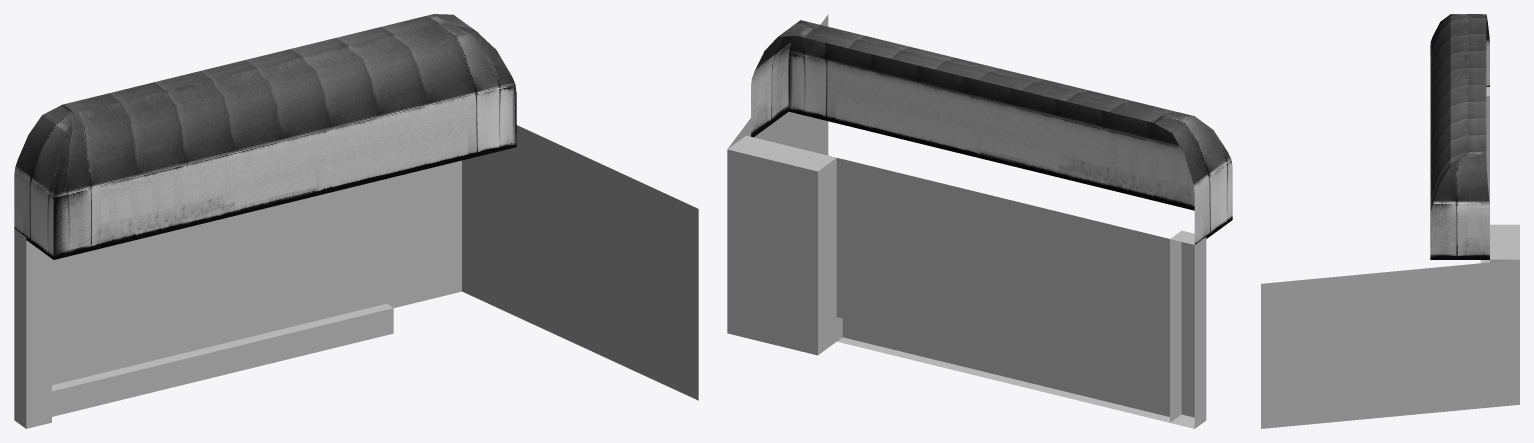
File: chinatown_ping pong.fbx
The picture shows the model from 3 angles, left to right: view 1: azimuth 30°, elevation 25°; view 2: azimuth 150°, elevation 25°; view 3: azimuth 270°, elevation 25°; orthographic projection. The views are drawn at different scales.
Visible parts, largest first — view 1: Plane305, Plane304; view 2: Plane305, Plane304; view 3: Plane305, Plane304.
Part boxes in pixels (<box>): Plane305: <box>14,125,698,428</box>; Plane304: <box>14,14,516,259</box>; Plane305: <box>727,14,1206,428</box>; Plane304: <box>751,20,1232,244</box>; Plane305: <box>1261,87,1519,428</box>; Plane304: <box>1430,14,1489,259</box>.
Bounding box in the file's own units: 1020 × 560 × 567.
